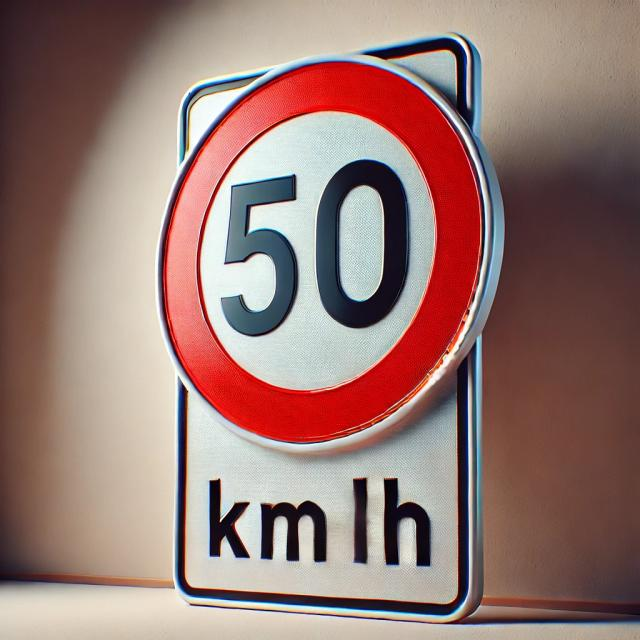Speed limit 50: (156, 52, 498, 453)
